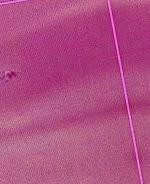knot: (1, 66, 22, 88)
